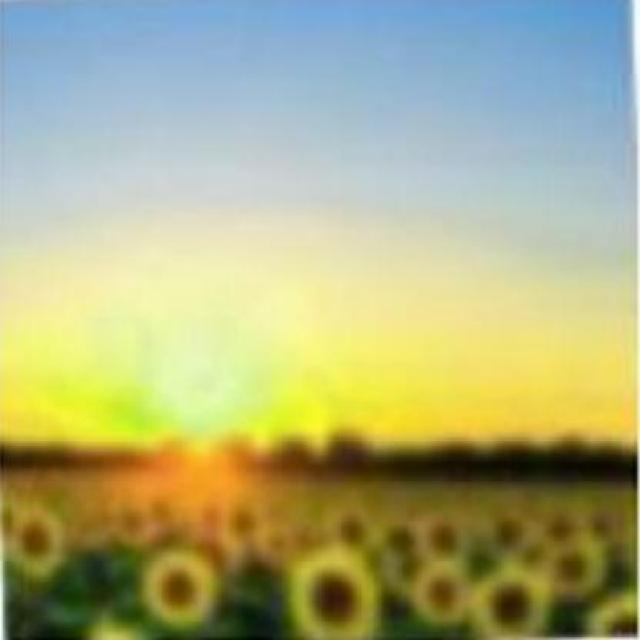sunflower: (286, 547, 381, 640), (142, 550, 218, 634), (478, 563, 544, 640)
